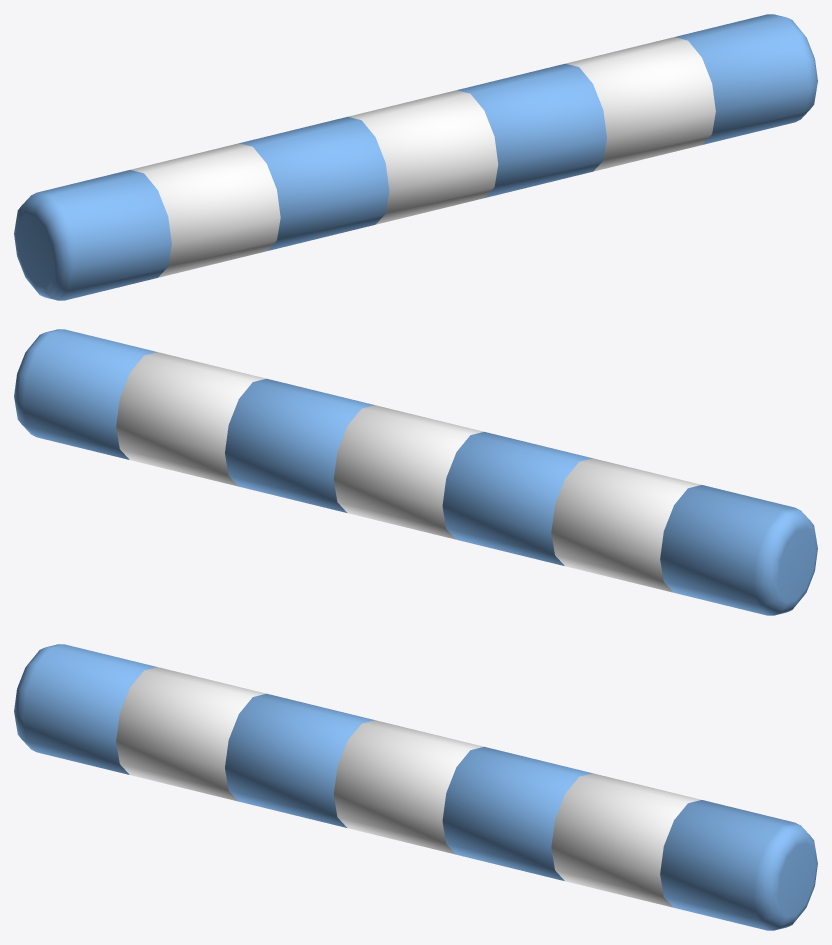
The model's file is RockinRacewayHurdleBar.glb.
The picture shows the model from 3 angles, top to bottom: view 1: azimuth 30°, elevation 25°; view 2: azimuth 150°, elevation 25°; view 3: azimuth 330°, elevation 25°; orthographic projection.
Parts seen in each view (by area): view 1: BarA, BarB; view 2: BarA, BarB; view 3: BarA, BarB.
Boxes of the visible parts, bbox=[...] form: BarA: bbox=[14, 14, 817, 300]; BarB: bbox=[130, 37, 715, 277]; BarA: bbox=[14, 329, 817, 615]; BarB: bbox=[116, 352, 701, 592]; BarA: bbox=[14, 644, 817, 930]; BarB: bbox=[116, 667, 701, 907].
Bounding box in the file's own units: 3.94 × 0.5 × 0.5.
